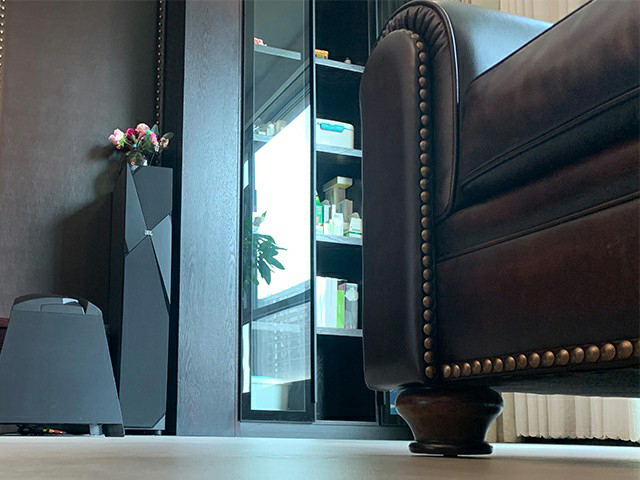cabinet: (182, 1, 364, 442)
curtain: (501, 390, 640, 447)
sofa: (358, 1, 640, 458)
